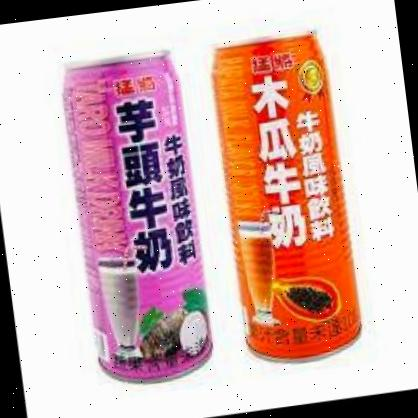can: (199, 27, 370, 372), (55, 44, 217, 393)
